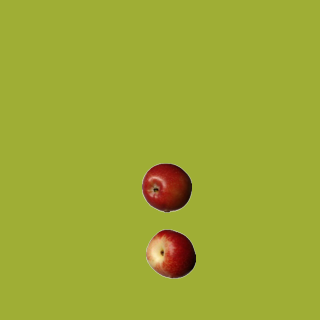Apple Braeburn: (141, 162, 191, 212)
Nectarine: (145, 228, 195, 278)
